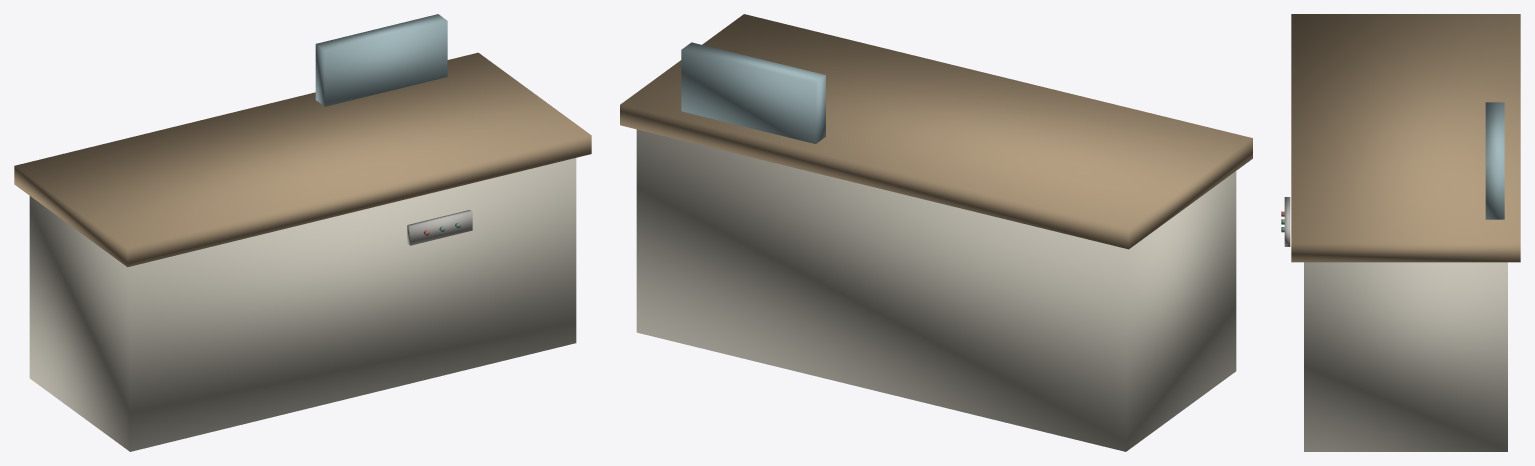
Rendered from service_counter__deep.glb.
The picture shows the model from 3 angles, left to right: view 1: azimuth 30°, elevation 25°; view 2: azimuth 150°, elevation 25°; view 3: azimuth 270°, elevation 25°; orthographic projection. The views are drawn at different scales.
Parts seen in each view (by area): view 1: world; view 2: world; view 3: world.
Part boxes in pixels (x1,y1,x2,y2): world: (14, 14, 591, 451); world: (620, 14, 1252, 451); world: (1281, 14, 1520, 451).
Size of the model in its own units: 2.08 by 1.14 by 0.9162.
